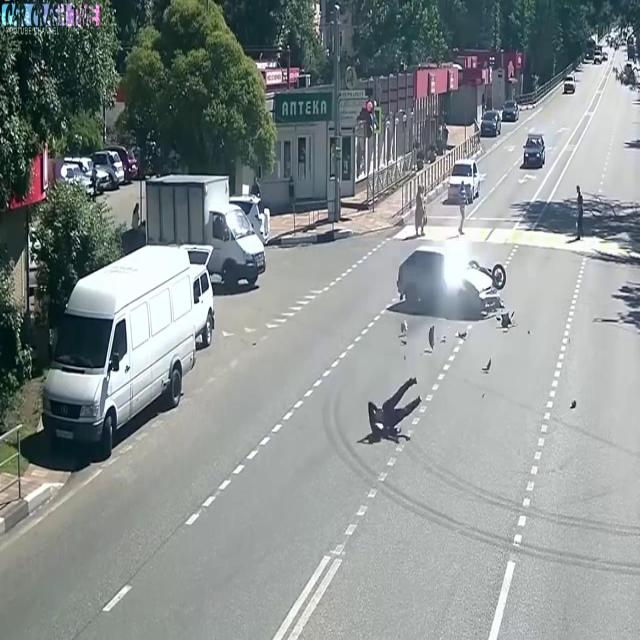accident: (391, 233, 511, 329)
non_accident: (35, 141, 273, 472)
